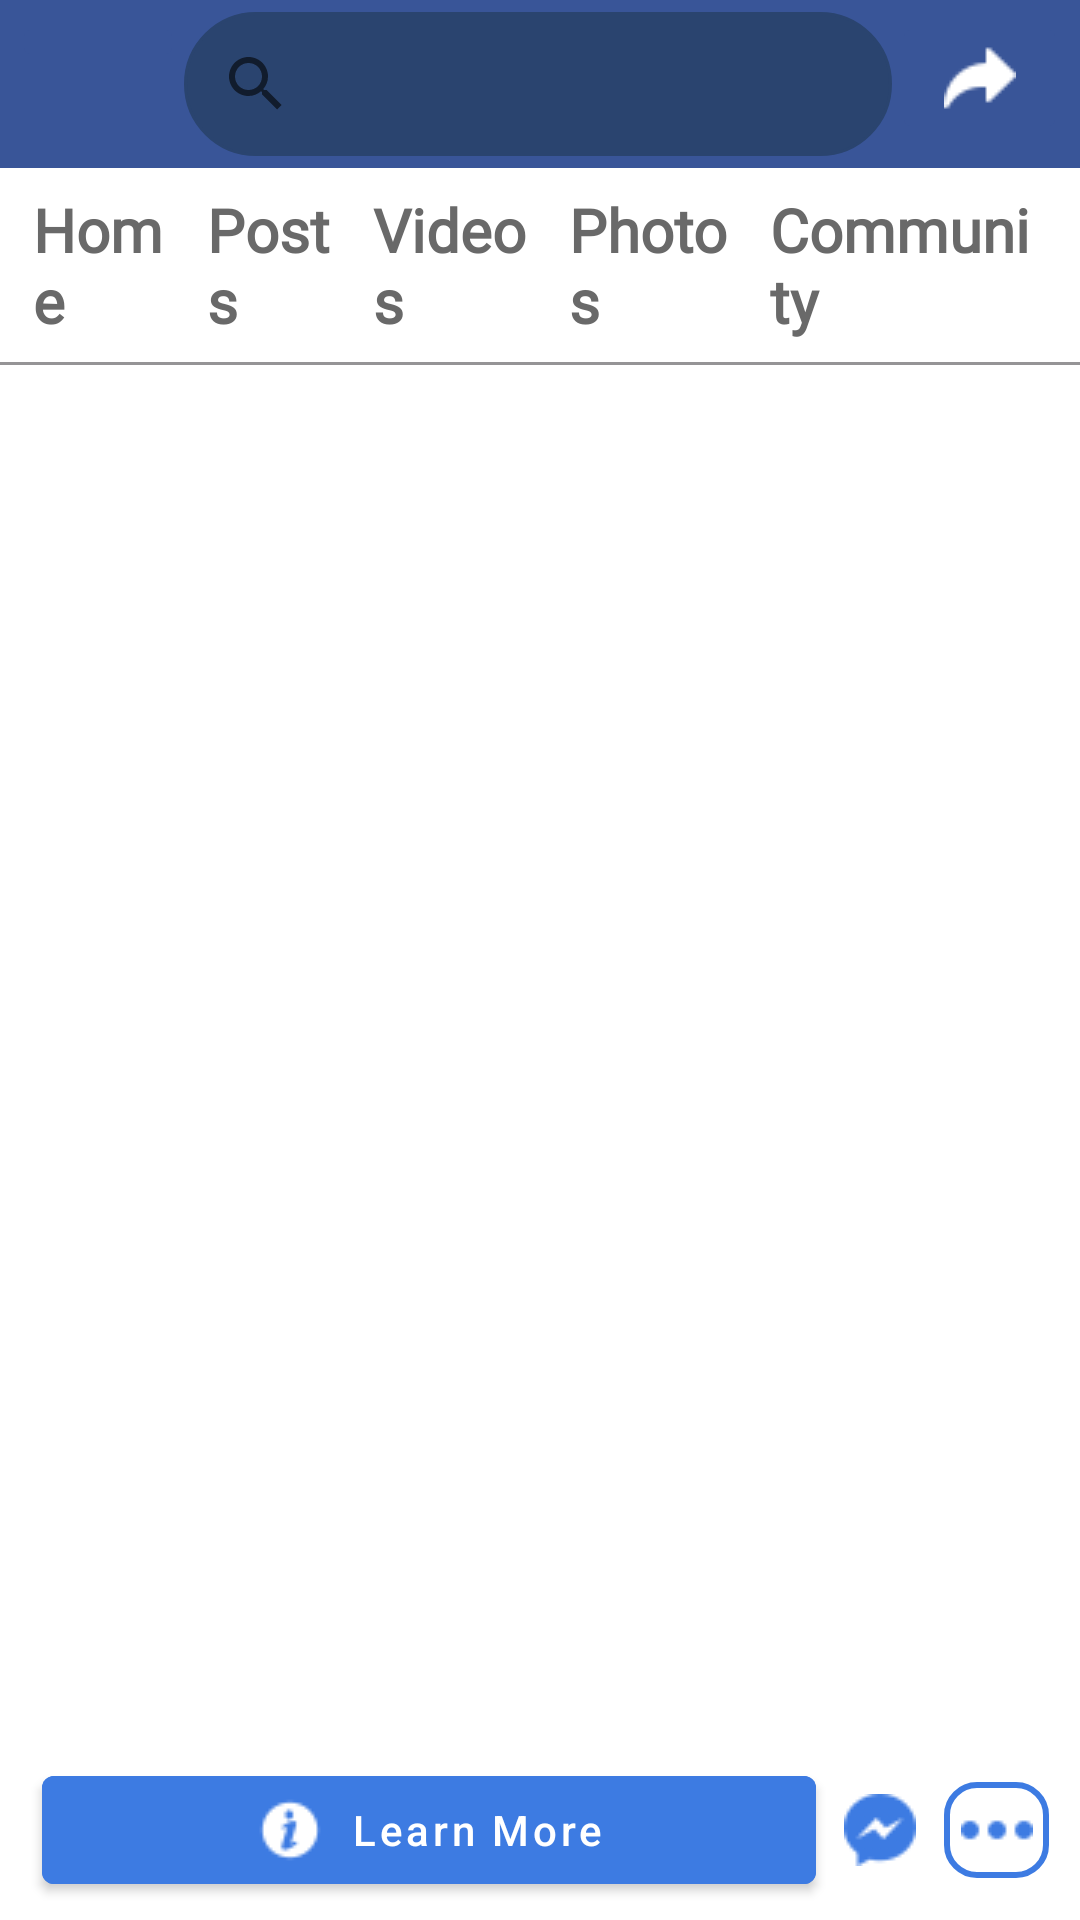

Named icons in this screenshot (1080×1920) and their bounding boxes, (x1, y1, x2, y2):
arrow: (944, 47, 1016, 109)
menu: (944, 1782, 1049, 1878)
